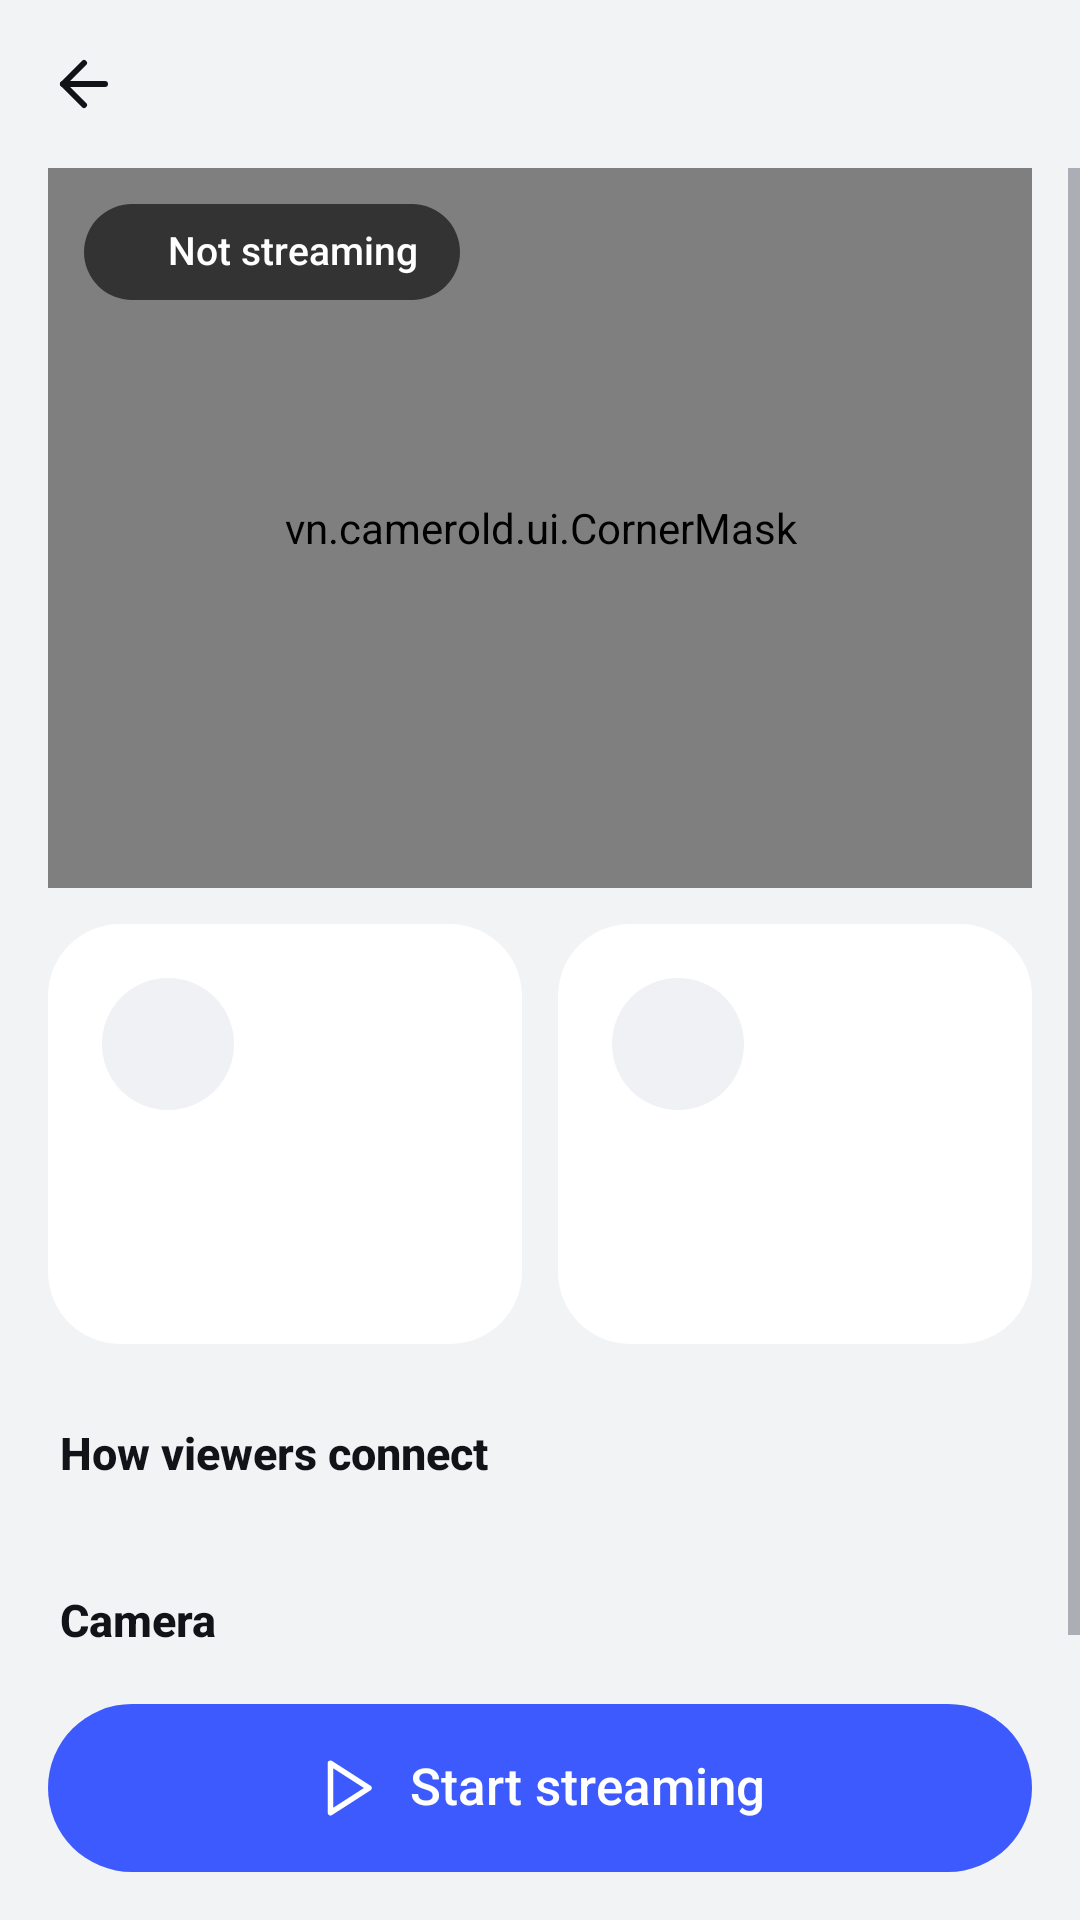

Icon bounding boxes for this 1080*1920 phone screenshot, format rect(x1, y1, x2, y2):
Back: rect(60, 60, 108, 108)
play: rect(327, 1760, 372, 1816)
